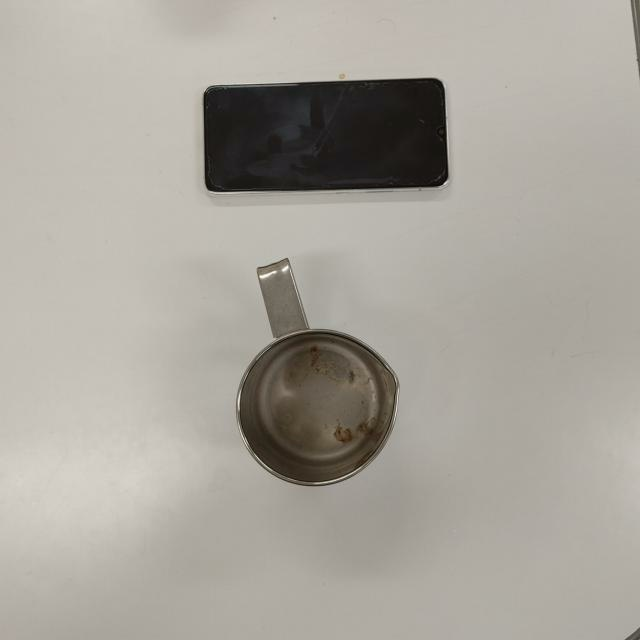cup: (233, 256, 400, 488)
phone: (200, 77, 450, 195)
